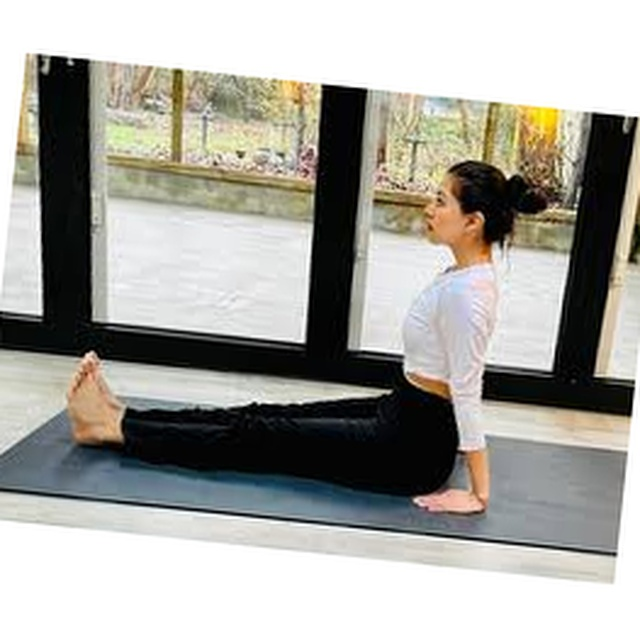Staff_Pose: (65, 159, 546, 514)
